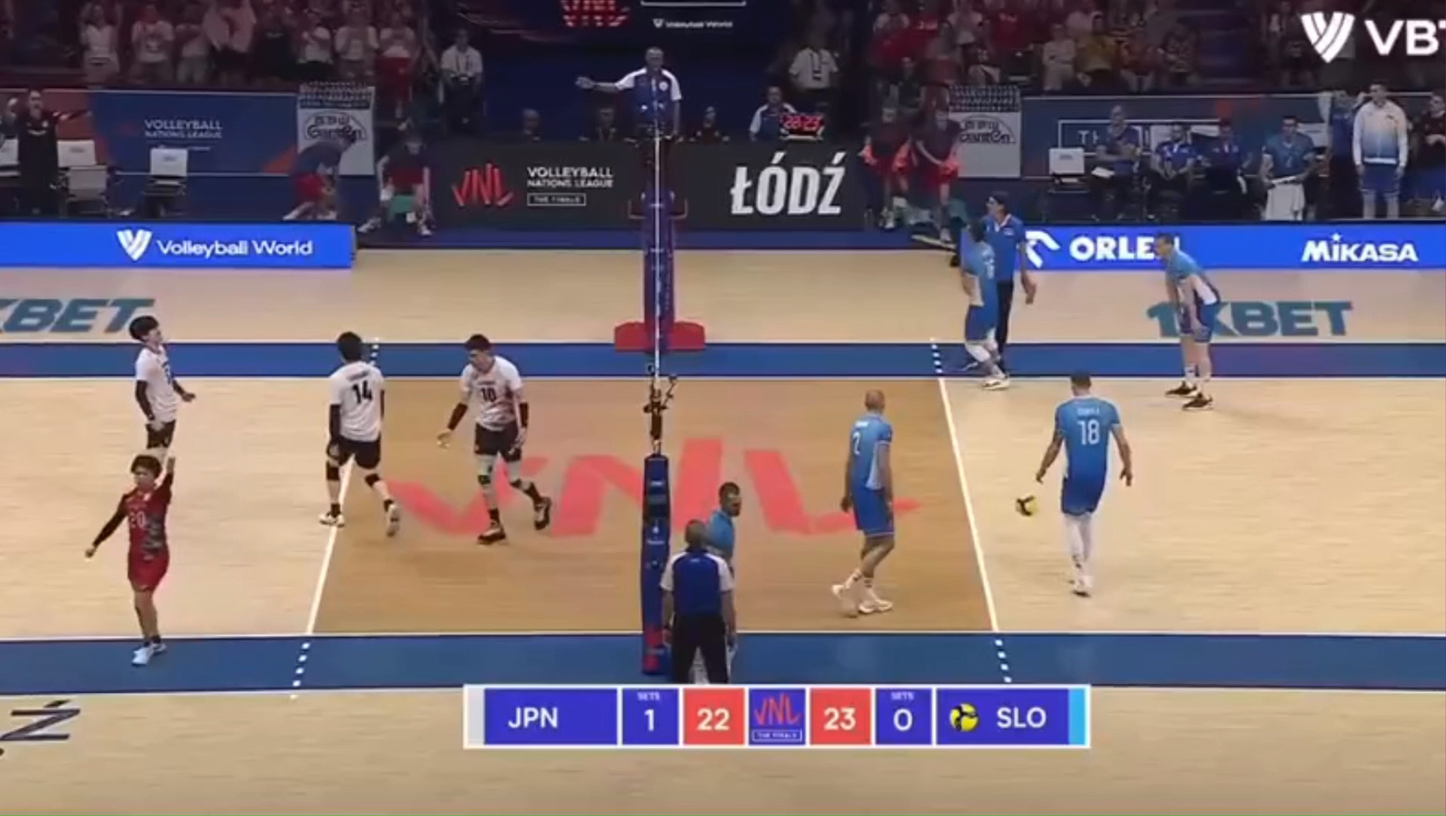ball: (1014, 495, 1037, 517)
player: (1035, 374, 1132, 596), (833, 390, 894, 613), (1157, 235, 1220, 409), (955, 222, 1008, 387), (706, 481, 741, 573), (690, 653, 707, 684), (728, 644, 736, 671)
player 1: (438, 334, 552, 544), (85, 453, 175, 666), (320, 332, 400, 536), (128, 314, 194, 459)
referee: (576, 47, 685, 219), (660, 519, 735, 684), (984, 194, 1036, 351)
